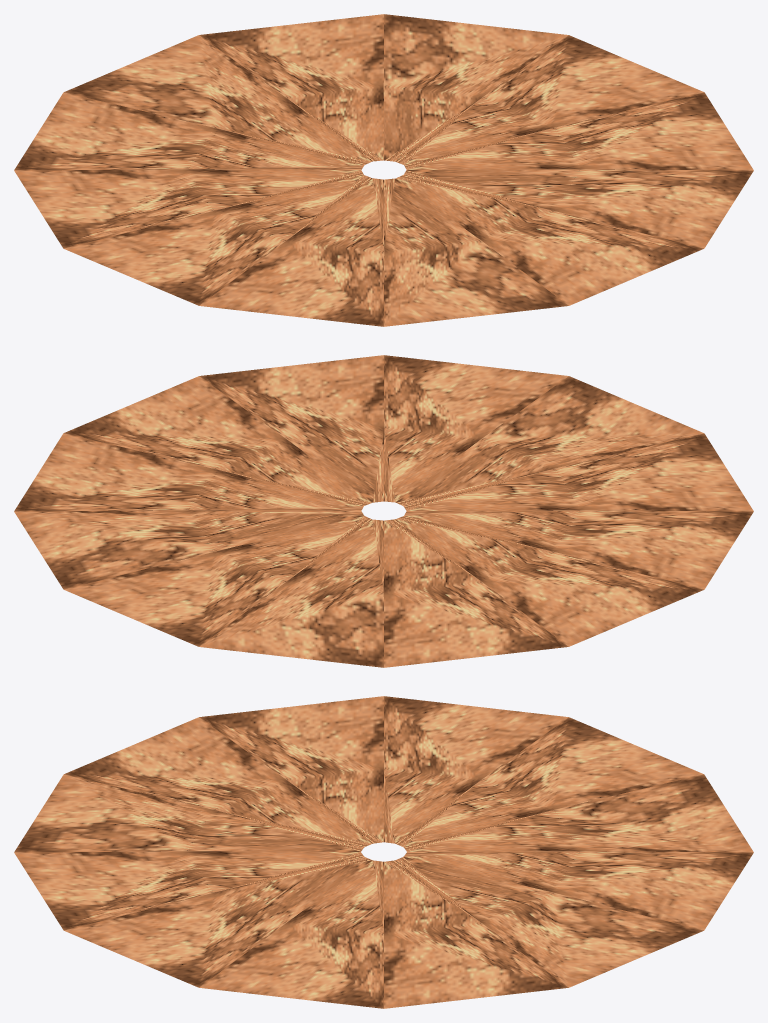
The picture shows the model from 3 angles, top to bottom: view 1: azimuth 30°, elevation 25°; view 2: azimuth 150°, elevation 25°; view 3: azimuth 270°, elevation 25°; orthographic projection.
Parts seen in each view (by area): view 1: mesh00; view 2: mesh00; view 3: mesh00.
Boxes of the visible parts, bbox=[...] form: mesh00: bbox=[14, 14, 753, 326]; mesh00: bbox=[14, 355, 753, 667]; mesh00: bbox=[14, 696, 753, 1008].
Bounding box in the file's own units: 979 × 1.73 × 979.
